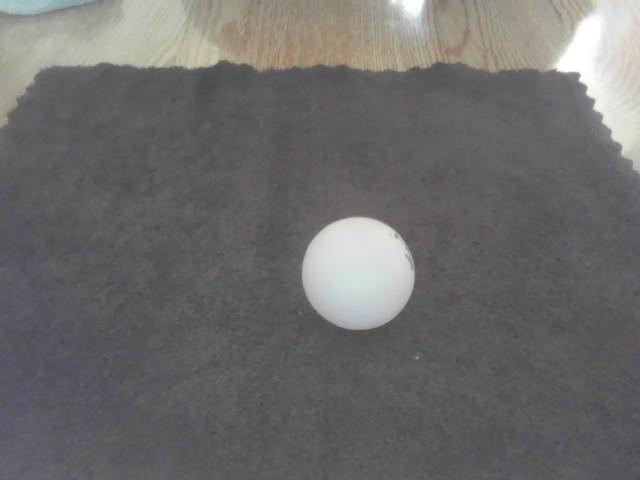ball: (301, 221, 415, 330)
